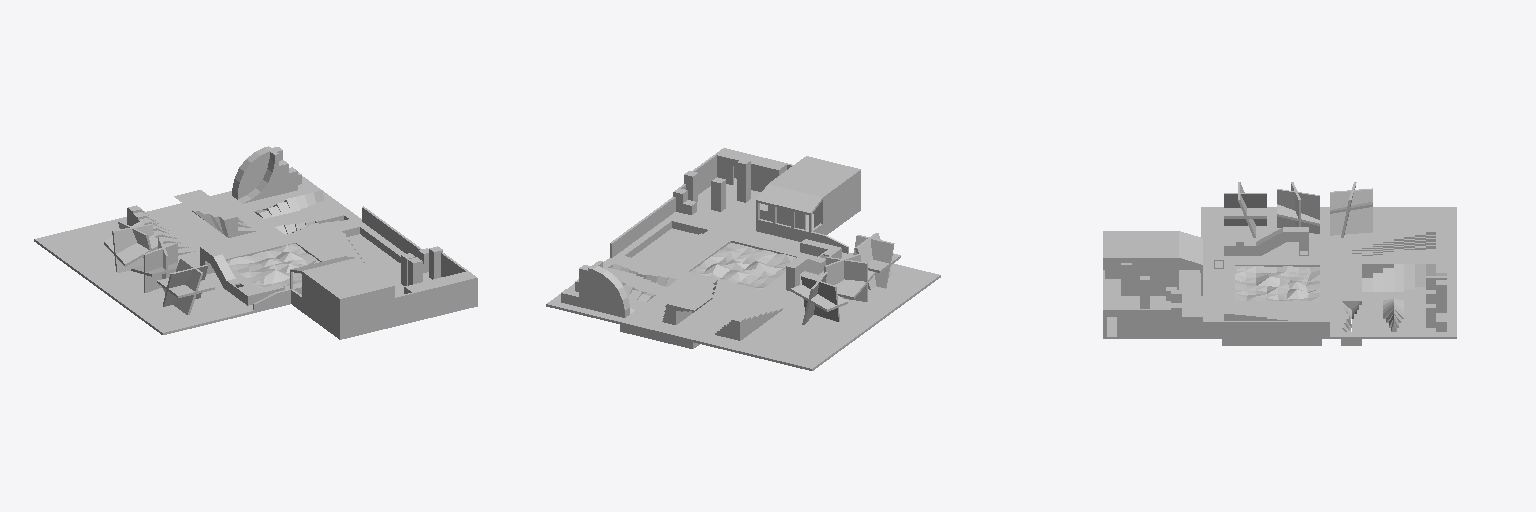
The model's file is sandbox.obj.
The picture shows the model from 3 angles: view 1: azimuth 30°, elevation 25°; view 2: azimuth 150°, elevation 25°; view 3: azimuth 270°, elevation 25°; orthographic projection.
Visible parts, largest first — view 1: entity0_brush62, entity0_brush68, entity0_brush63, entity0_brush10, entity0_brush20, entity0_brush19, entity0_brush66, entity0_brush18, entity0_brush57, entity0_brush45, entity0_brush44, entity6_brush1 (+7 smaller); view 2: entity0_brush62, entity0_brush68, entity0_brush45, entity0_brush63, entity0_brush20, entity0_brush18, entity0_brush60, entity0_brush33, entity0_brush66, entity0_brush44, entity5_brush1, entity0_brush43 (+10 smaller); view 3: entity0_brush62, entity0_brush45, entity0_brush68, entity0_brush63, entity0_brush66, entity0_brush20, entity0_brush44, entity11_brush0, entity0_brush4, entity0_brush60, entity6_brush0, entity0_brush57 (+6 smaller).
Boxes of the visible parts, <box> form: entity0_brush62: <box>34,210,201,290</box>; entity0_brush68: <box>154,192,295,260</box>; entity0_brush63: <box>102,265,258,326</box>; entity0_brush10: <box>395,277,477,323</box>; entity0_brush20: <box>302,258,394,301</box>; entity0_brush19: <box>342,289,392,336</box>; entity0_brush66: <box>227,176,346,226</box>; entity0_brush18: <box>302,274,341,337</box>; entity0_brush57: <box>152,302,290,334</box>; entity0_brush45: <box>291,265,477,339</box>; entity0_brush44: <box>362,206,420,256</box>; entity6_brush1: <box>144,242,177,292</box>; entity0_brush62: <box>693,291,879,370</box>; entity0_brush68: <box>620,272,761,348</box>; entity0_brush45: <box>667,178,860,250</box>; entity0_brush63: <box>761,255,929,320</box>; entity0_brush20: <box>769,156,860,198</box>; entity0_brush18: <box>821,172,860,234</box>; entity0_brush60: <box>662,230,736,271</box>; entity0_brush33: <box>756,184,822,215</box>; entity0_brush66: <box>546,274,666,323</box>; entity0_brush44: <box>610,197,675,257</box>; entity5_brush1: <box>853,235,894,288</box>; entity0_brush43: <box>632,228,697,259</box>; entity0_brush62: <box>1322,207,1456,264</box>; entity0_brush45: <box>1103,269,1221,338</box>; entity0_brush68: <box>1320,265,1456,309</box>; entity0_brush63: <box>1222,207,1321,266</box>; entity0_brush66: <box>1362,301,1456,338</box>; entity0_brush20: <box>1103,231,1178,259</box>; entity0_brush44: <box>1203,321,1329,336</box>; entity11_brush0: <box>1330,188,1372,235</box>; entity0_brush4: <box>1118,309,1170,336</box>; entity0_brush60: <box>1222,301,1321,312</box>; entity6_brush0: <box>1277,189,1319,233</box>; entity0_brush57: <box>1201,207,1221,268</box>.
Size of the model in its own units: 3712 by 672 by 4288.